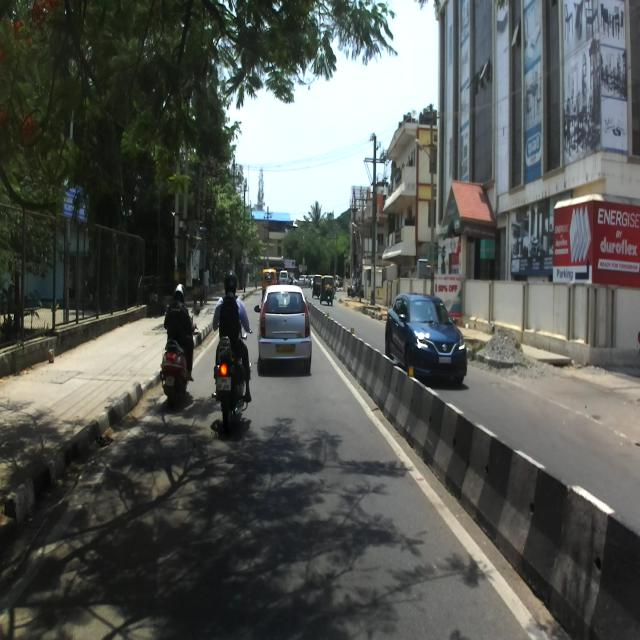car ahead at: (380, 287, 469, 389), (254, 283, 314, 381)
motorcycle ahead at: (212, 354, 252, 430), (159, 332, 196, 402)
